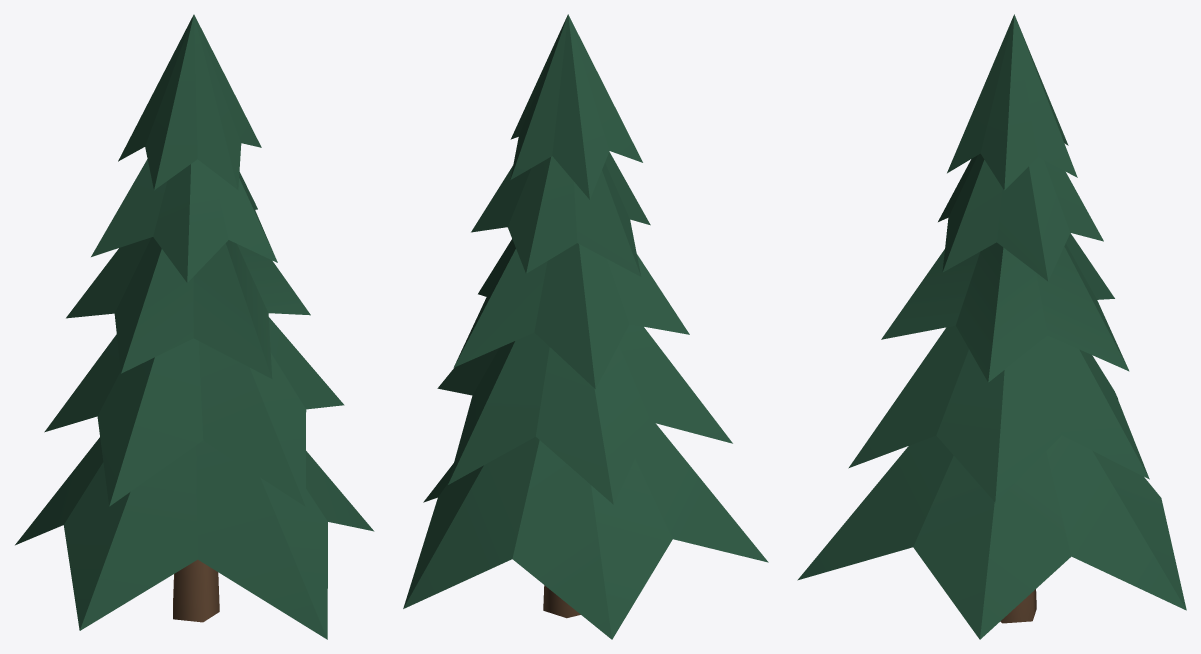
File: conifer_0.glb
The picture shows the model from 3 angles, left to right: view 1: azimuth 30°, elevation 25°; view 2: azimuth 150°, elevation 25°; view 3: azimuth 270°, elevation 25°; orthographic projection.
Parts seen in each view (by area): view 1: conifer_0; view 2: conifer_0; view 3: conifer_0.
Part boxes in pixels (x1=…): conifer_0: x1=15, y1=14, x2=374, y2=639; conifer_0: x1=403, y1=14, x2=768, y2=639; conifer_0: x1=797, y1=14, x2=1186, y2=639.
Bounding box in the file's own units: 3.43 × 6.1 × 3.59.
